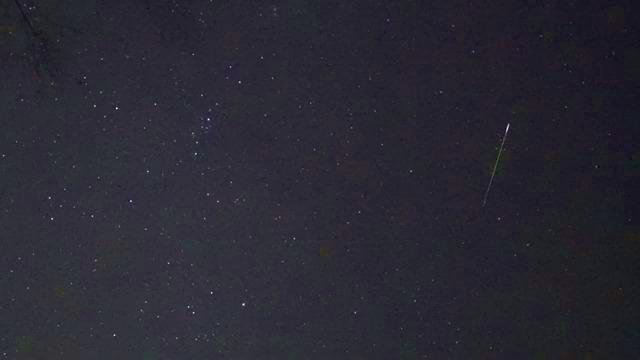meteorite: (461, 117, 522, 211)
